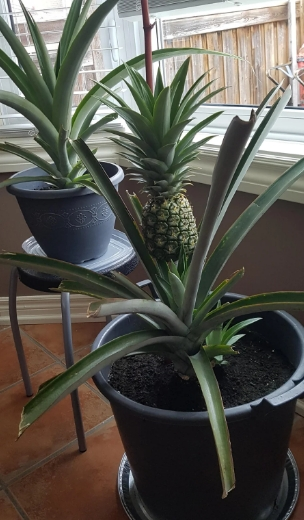pineapple: (111, 80, 207, 264)
